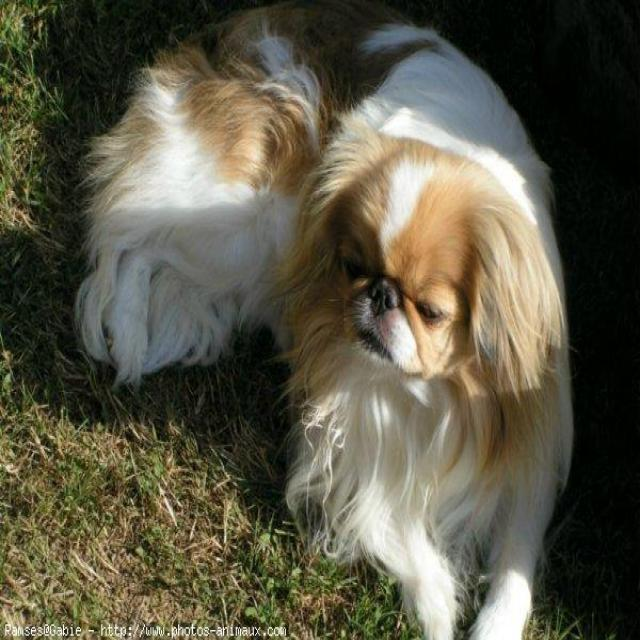husky: (69, 5, 574, 636)
